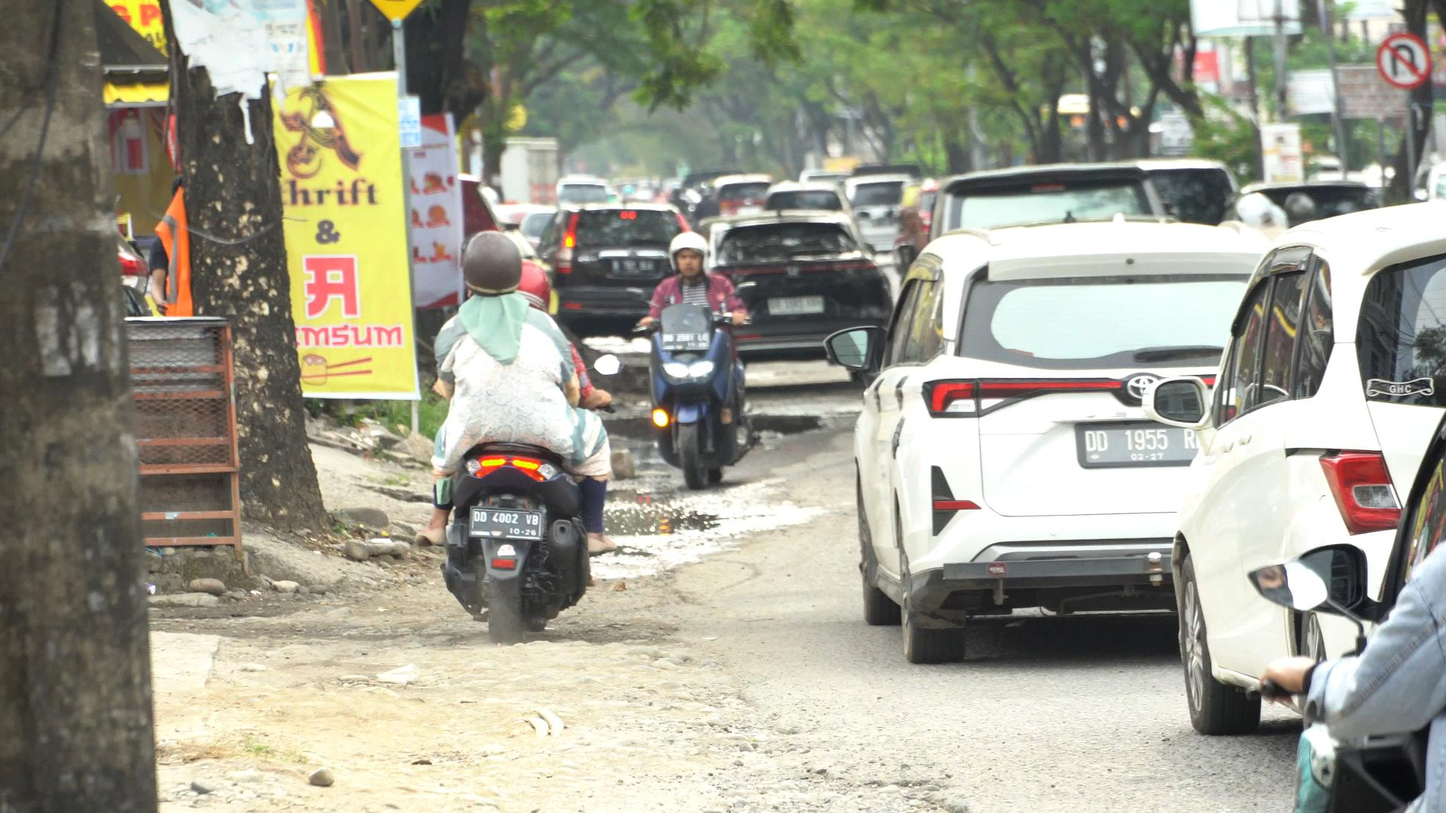number-plate: (659, 330, 712, 354)
